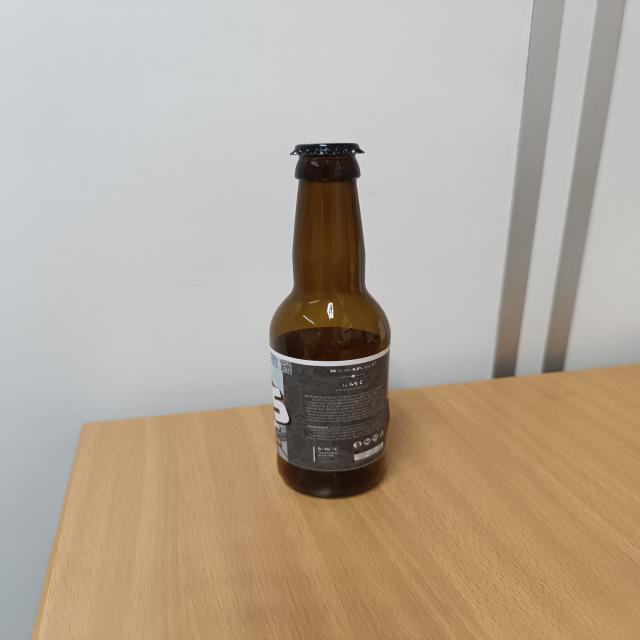Bottle: (268, 140, 389, 500)
Cap: (288, 138, 367, 158)
Label: (267, 352, 390, 469)
